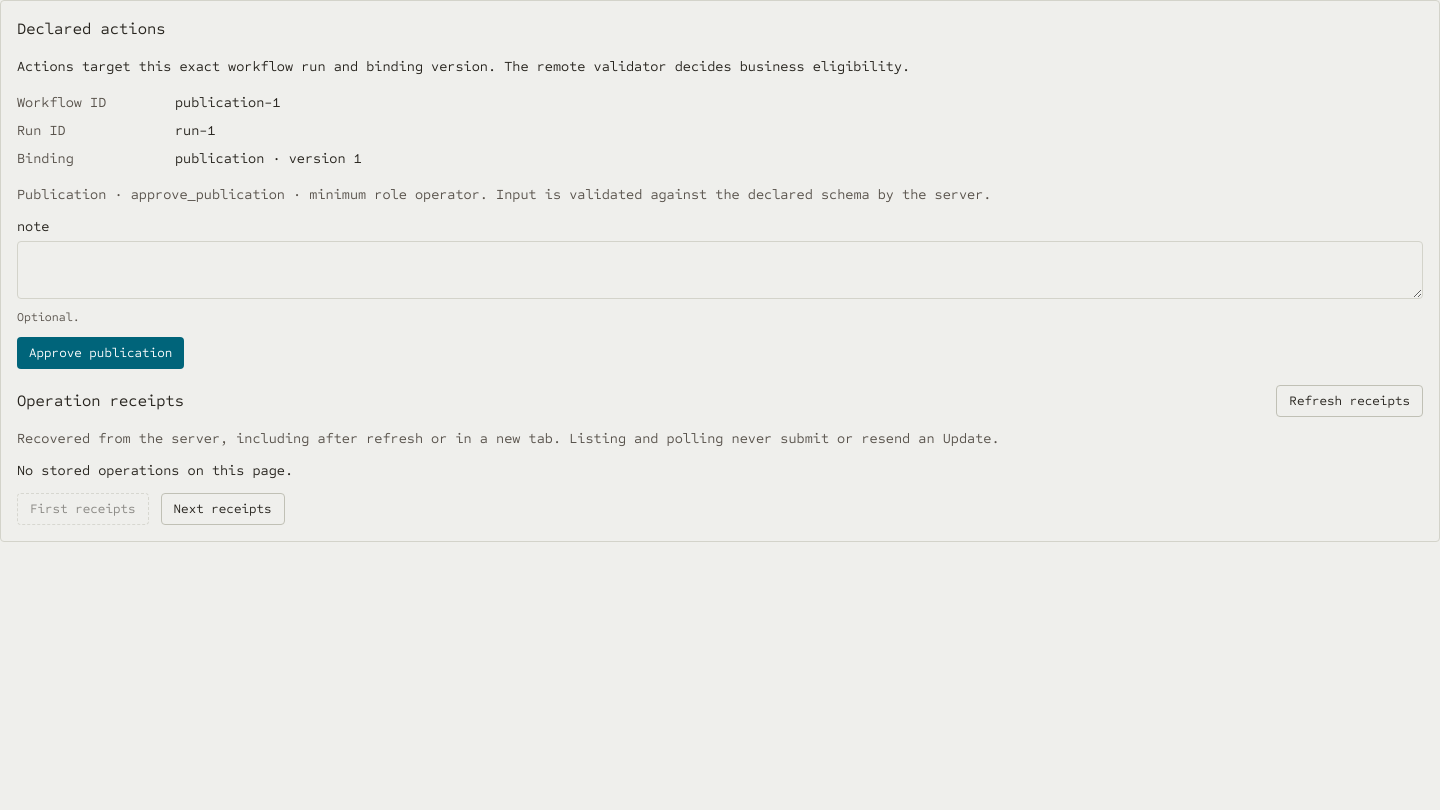
Scenario: declared connector approval › follows server receipt pagination without sending Updates
Click the button "Next receipts" at (223, 509), box [161, 493, 285, 525]
(page scrolled)
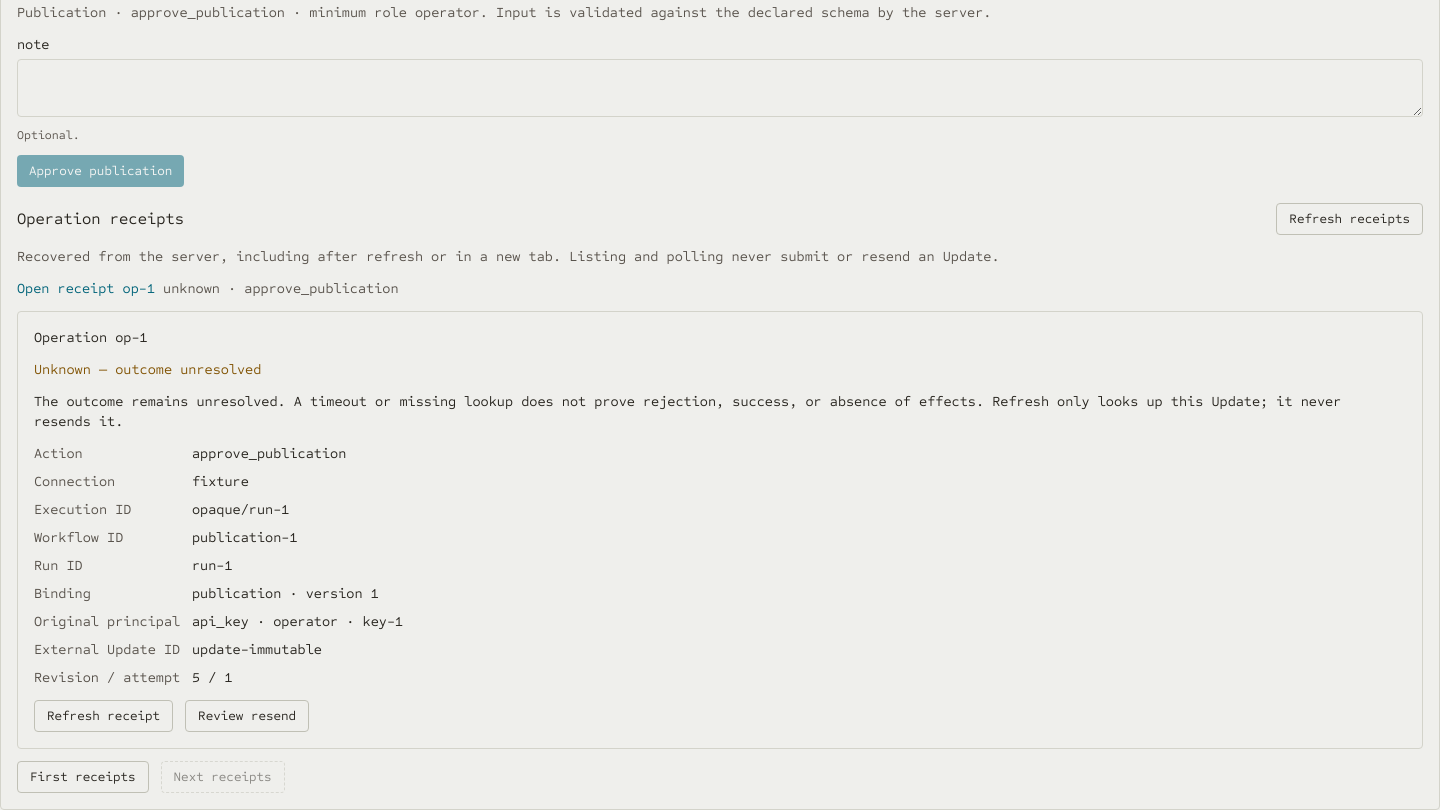
Expected: the element with test id "operation-receipt" is shown, [17, 311, 1423, 749]
